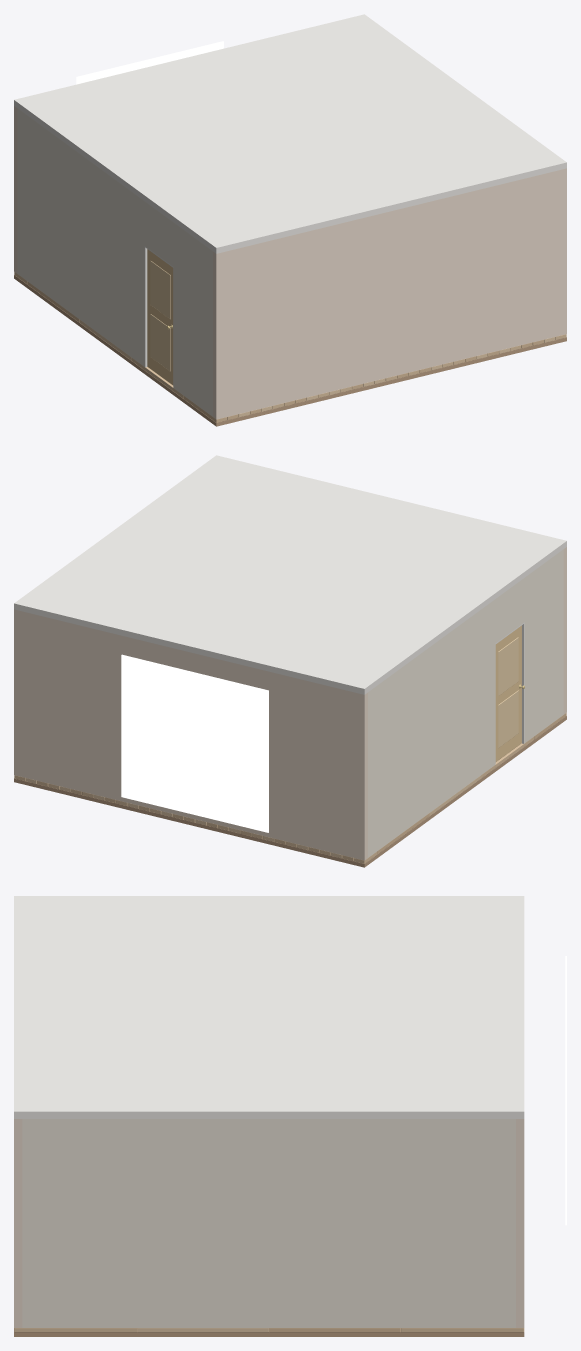
File: room-compressed.glb
3 renders of one model, top to bottom at view 1: azimuth 30°, elevation 25°; view 2: azimuth 150°, elevation 25°; view 3: azimuth 270°, elevation 25°, orthographic. The views are drawn at different scales.
Visible parts, largest first — view 1: Ceiling, Wall_Front_Surface, Wall_Left_Surface, Floor_Base, Floor, Door_Panels, Door_Slab, Window_SkyBackdrop, Wall_Back_Surface, DoorFrame_Trim; view 2: Ceiling, Wall_Back_Surface, Wall_Left_Surface, Window_SkyBackdrop, Floor_Base, Floor, Door_Panels, Door_Slab, Wall_Front_Surface, DoorFrame_Trim; view 3: Ceiling, Wall_Right_Surface, Floor_Base, Floor, Wall_Back_Surface, Wall_Front_Surface.
Part boxes in pixels (x1,y1,x2,y2): Ceiling: (14,14,566,253); Wall_Front_Surface: (213,168,566,419); Wall_Left_Surface: (17,108,212,416); Floor_Base: (14,275,566,426); Floor: (14,272,566,422); Door_Panels: (150,260,170,371); Door_Slab: (147,249,173,385); Window_SkyBackdrop: (76,41,223,84); Wall_Back_Surface: (14,106,17,273); DoorFrame_Trim: (144,246,173,388); Ceiling: (14,455,566,694); Wall_Back_Surface: (14,609,367,860); Wall_Left_Surface: (368,549,563,857); Window_SkyBackdrop: (121,654,268,832); Floor_Base: (14,716,566,867); Floor: (14,713,566,863); Door_Panels: (498,637,518,747); Door_Slab: (495,625,521,761); Wall_Front_Surface: (563,547,566,714); DoorFrame_Trim: (495,622,524,764); Ceiling: (14,896,524,1118); Wall_Right_Surface: (22,1119,515,1327); Floor_Base: (14,1328,524,1336); Floor: (14,1328,523,1332); Wall_Back_Surface: (516,1119,524,1327); Wall_Front_Surface: (14,1119,22,1327).
Size of the model in its own units: 6.26 by 3.02 by 6.72.
